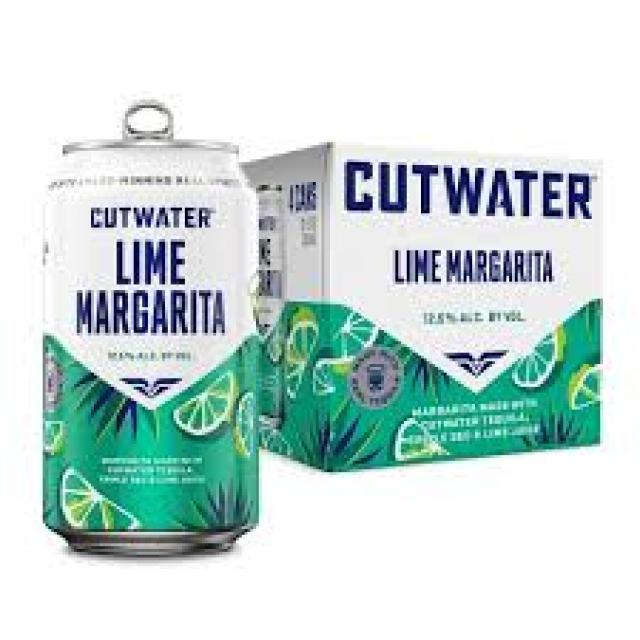Cans: (31, 117, 273, 566)
